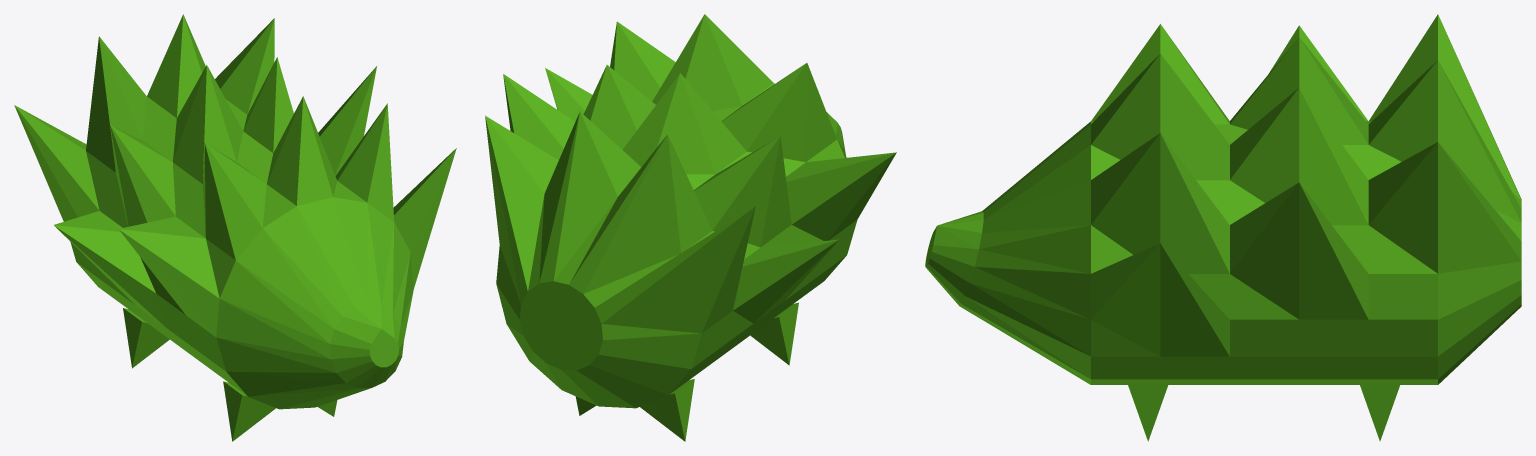
File: erizo.obj
3 views of the same model, side by side, from view 1: azimuth 30°, elevation 25°; view 2: azimuth 150°, elevation 25°; view 3: azimuth 270°, elevation 25° (orthographic). The views are drawn at different scales.
Visible parts, largest first — view 1: Cylinder020; view 2: Cylinder020; view 3: Cylinder020.
Boxes of the visible parts, left/top/right/bottom form: Cylinder020: left=14, top=14, right=456, bottom=441; Cylinder020: left=485, top=14, right=896, bottom=441; Cylinder020: left=925, top=14, right=1521, bottom=441.
Size of the model in its own units: 3.29 by 2.96 by 4.27.
